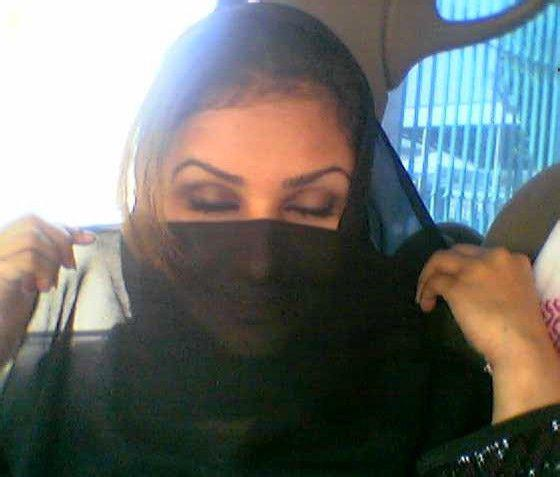OK: (163, 152, 355, 344)
